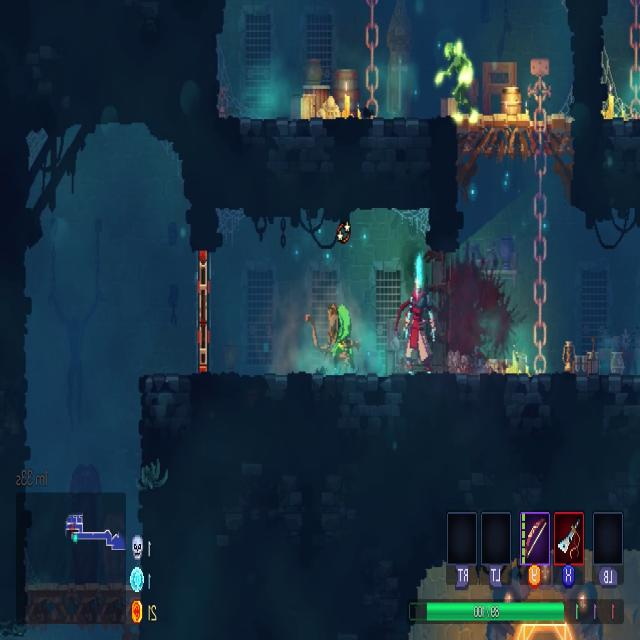agents: (399, 264, 437, 376)
door_regular: (194, 247, 210, 376)
enemy_archer: (302, 289, 366, 383)
enemy_green_puncher: (430, 40, 472, 119)
wood_floor: (454, 108, 573, 160)
